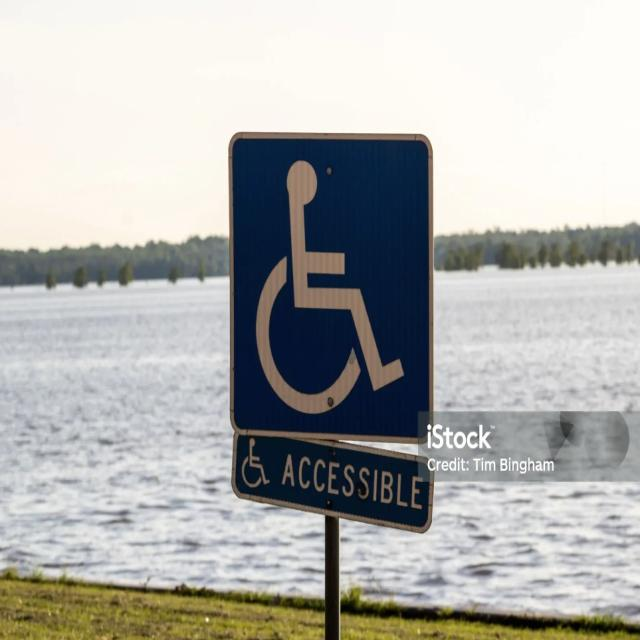symbol_of_access: (224, 128, 436, 444)
